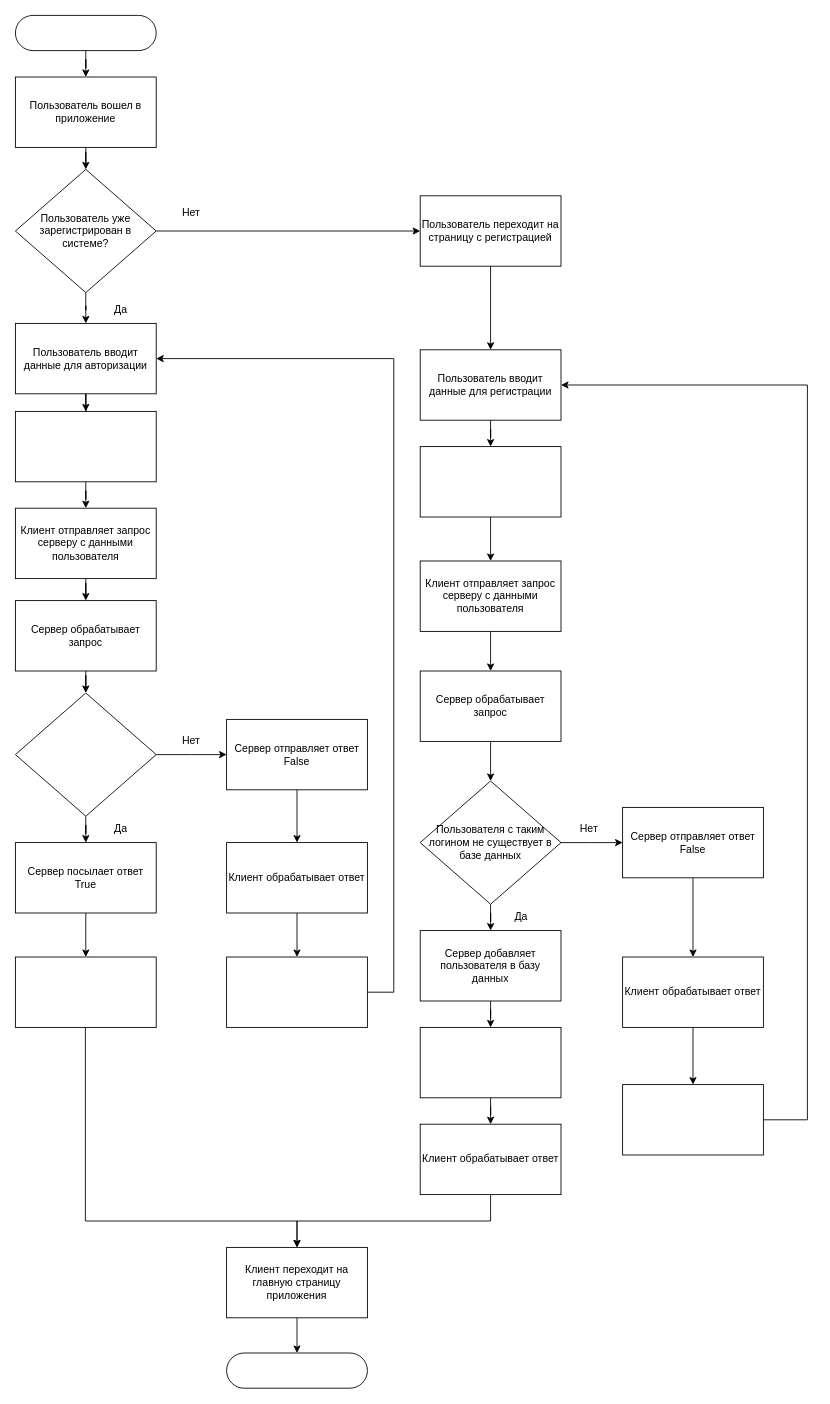
Some shapes in this 830 by 1404 pixel diagram are drawn without their labels. Here are the shapes that lost their labels. From the top down, the box of each, then its label:
(15, 15, 156, 51): Начало
(15, 411, 156, 482): Пользователь нажимает на кнопку авторизоваться
(419, 446, 561, 517): Пользователь нажимает на кнопку зарегистрироваться
(15, 692, 156, 816): Пользователь ввел идентичные данные как в базе данных?
(15, 956, 156, 1027): Клиент обрабатывает ответ от сервера
(226, 956, 367, 1027): Клиент сообщает пользователю, что его данные не верны
(419, 1027, 561, 1098): Сервер отправляет ответ True
(622, 1084, 763, 1155): Клиент сообщает пользователю, что введенный логин уже занят
(226, 1352, 367, 1388): Конец
